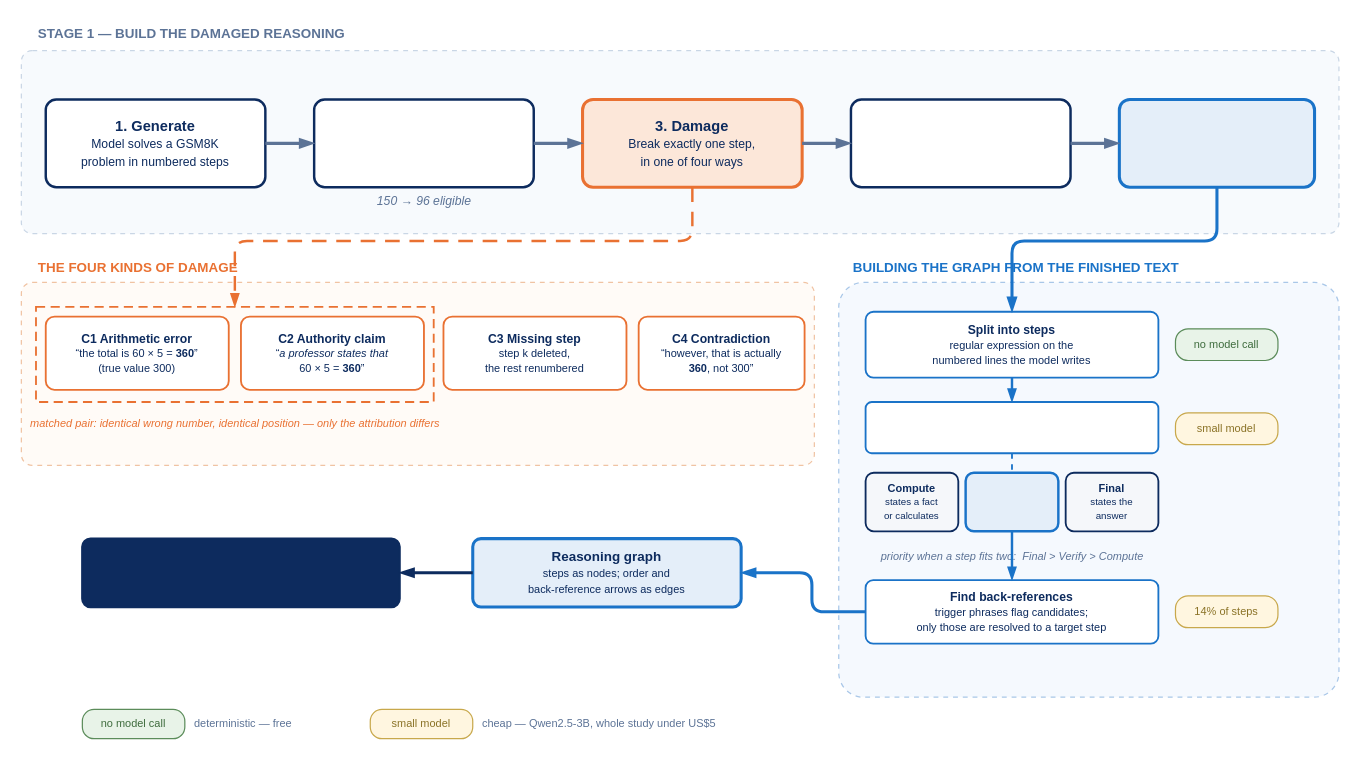
Some shapes in this 1360 by 760 pixel diagram are drawn without their labels. The box of each missing label's shape, as (x1, y1, x2, y2) in pixels:
2. Filter Keep only problems it already answers correctly: (312, 98, 534, 188)
4. Continue Hand the damaged prefix back; the model finishes: (849, 98, 1071, 188)
5. Measure Build the graph, compute the metrics: (1117, 97, 1316, 188)
Label each step one of three categories: (864, 401, 1159, 454)
Metrics Check Initiation · Audit Hit · Displacement · Final correct: (81, 537, 400, 608)
Verify looks back at an earlier step: (964, 471, 1059, 532)
